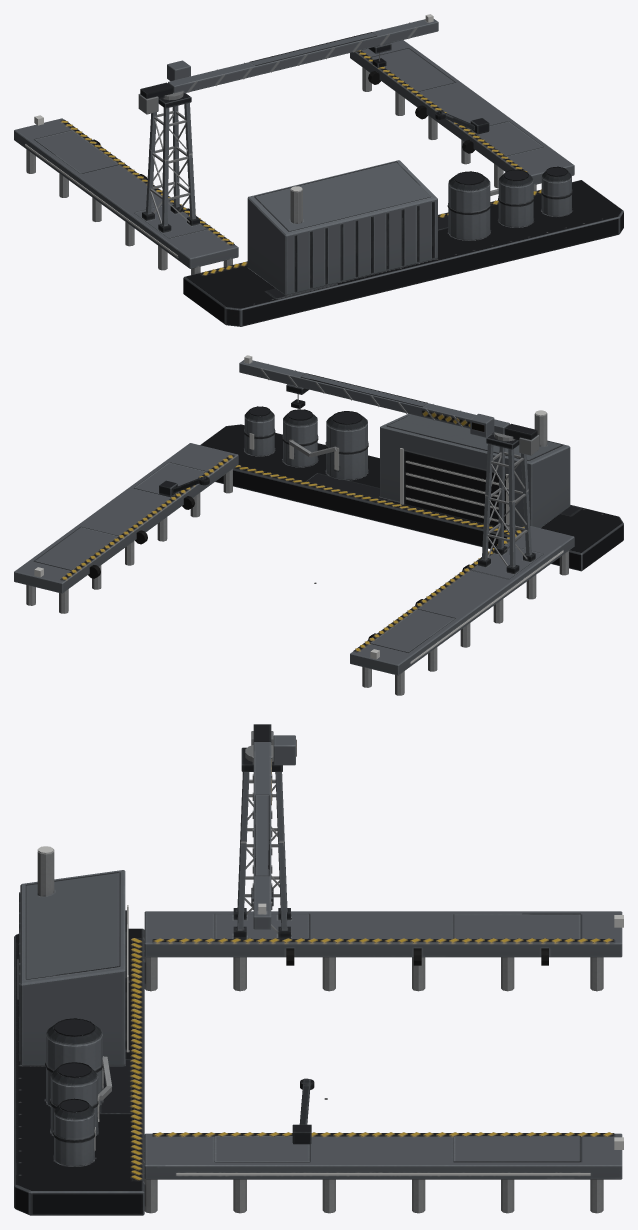
The model's file is chs_shipyard.fbx.
3 renders of one model, top to bottom at view 1: azimuth 30°, elevation 25°; view 2: azimuth 150°, elevation 25°; view 3: azimuth 270°, elevation 25°, orthographic. The views are drawn at different scales.
Visible parts, largest first — view 1: base_bar, jib_bar, base_glow_running_bar; view 2: base_bar, jib_bar, base_glow_power_bar, base_glow_running_bar; view 3: base_bar, jib_bar, base_glow_running_bar.
Part boxes in pixels (bbox=[...]): base_bar: bbox=[14, 40, 623, 326]; jib_bar: bbox=[138, 19, 438, 114]; base_glow_running_bar: bbox=[25, 115, 192, 257]; base_bar: bbox=[14, 406, 623, 695]; jib_bar: bbox=[239, 360, 539, 455]; base_glow_power_bar: bbox=[249, 410, 546, 529]; base_glow_running_bar: bbox=[34, 490, 563, 663]; base_bar: bbox=[14, 747, 622, 1215]; jib_bar: bbox=[245, 724, 296, 929]; base_glow_running_bar: bbox=[176, 826, 623, 1175].
Bounding box in the file's own units: 3920 × 1790 × 3830.
2 materials, 2 textured.
